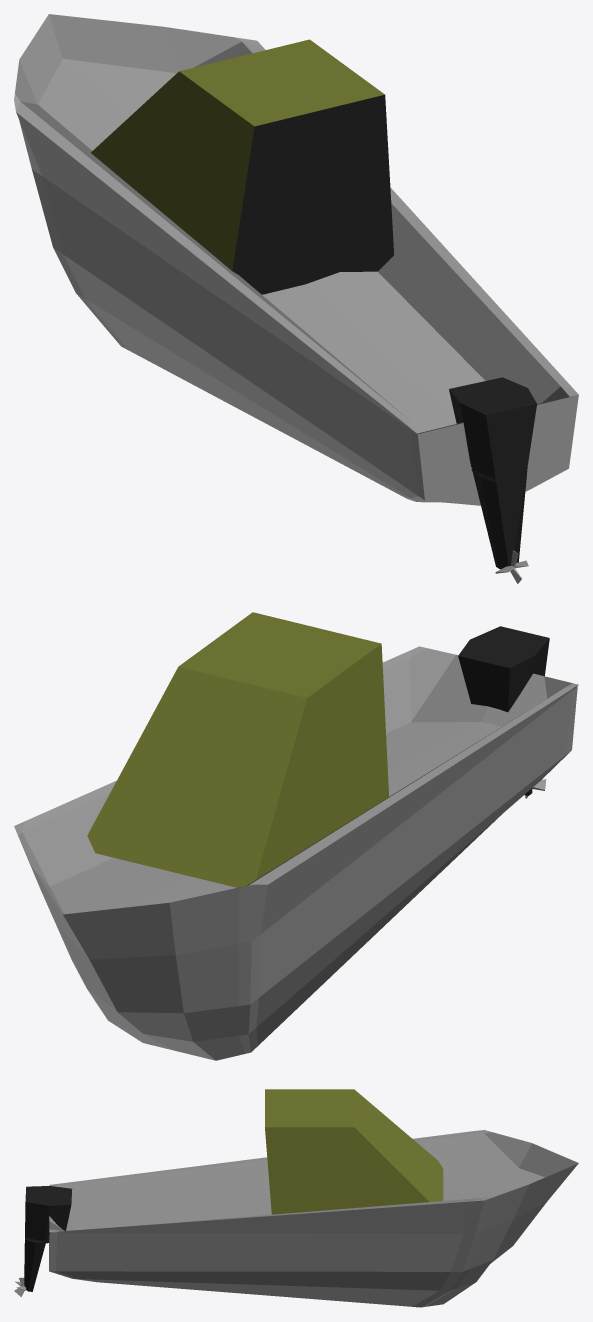
Rendered from boat.fbx.
The picture shows the model from 3 angles, top to bottom: view 1: azimuth 30°, elevation 25°; view 2: azimuth 150°, elevation 25°; view 3: azimuth 270°, elevation 25°; orthographic projection. The views are drawn at different scales.
Parts seen in each view (by area): view 1: Cube.001; view 2: Cube.001; view 3: Cube.001.
Boxes of the visible parts, x1,y1,x2,y2 form: Cube.001: (14,14,578,583); Cube.001: (14,612,578,1060); Cube.001: (14,1089,578,1307).
Size of the model in its own units: 205 by 253 by 677.
